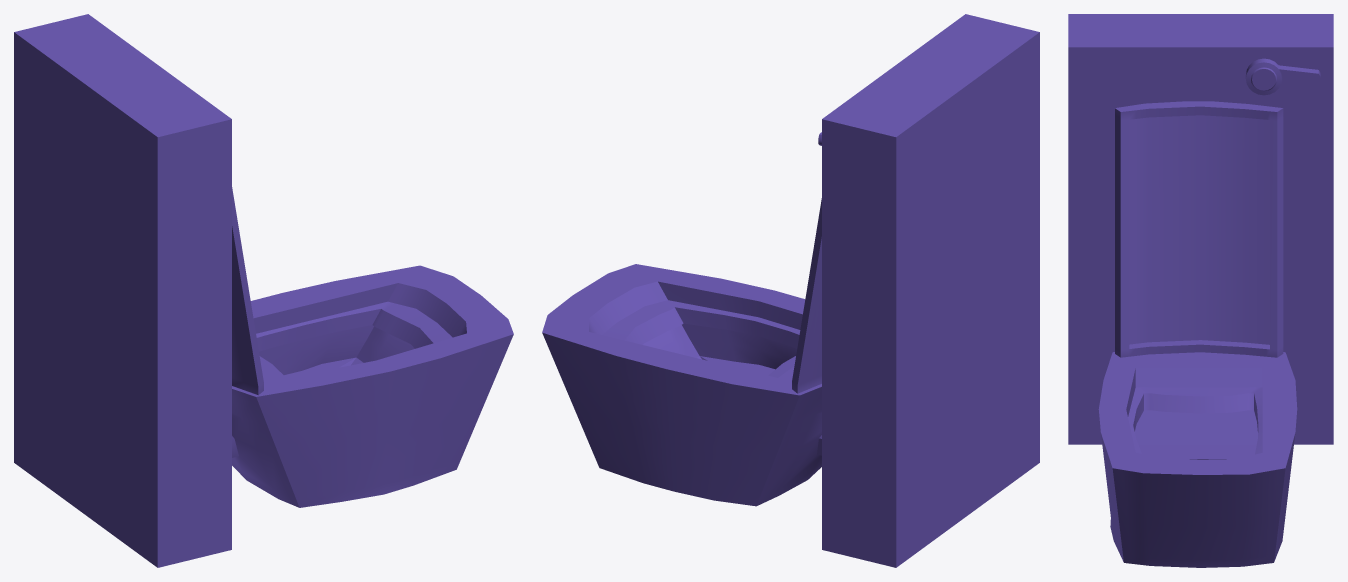
File: Western style urinal FBX.fbx
3 views of the same model, side by side, from view 1: azimuth 30°, elevation 25°; view 2: azimuth 150°, elevation 25°; view 3: azimuth 270°, elevation 25° (orthographic). The views are drawn at different scales.
Visible parts, largest first — view 1: polySurface1; view 2: polySurface1; view 3: polySurface1.
Part boxes in pixels (x1,y1,x2,y2): polySurface1: (14, 14, 513, 567); polySurface1: (542, 14, 1039, 567); polySurface1: (1068, 14, 1333, 567).
Size of the model in its own units: 6.38 by 6.7 by 4.02.
